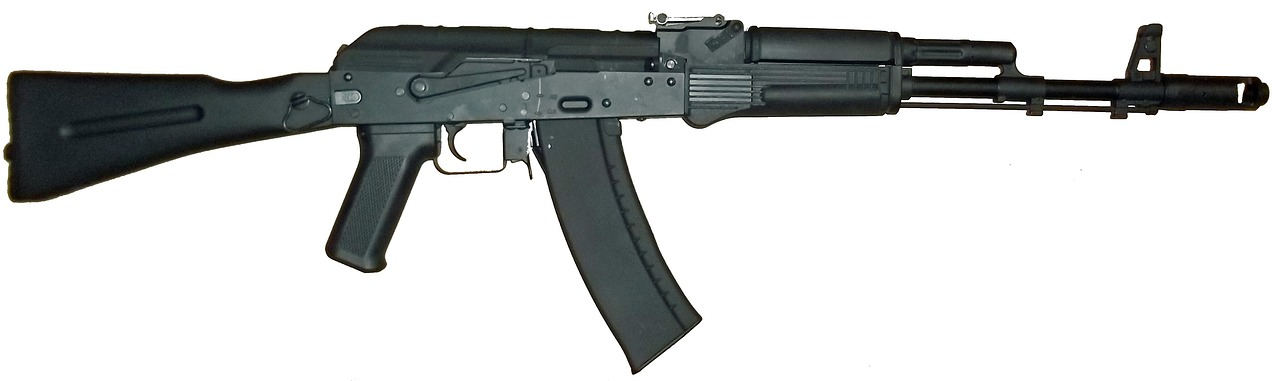gun: (1, 9, 1272, 376)
